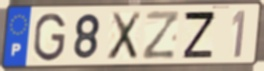1: (231, 9, 247, 60)
8: (71, 12, 102, 62)
G: (32, 12, 68, 64)
X: (105, 10, 143, 62)
Z: (140, 10, 181, 62), (182, 10, 217, 60)
